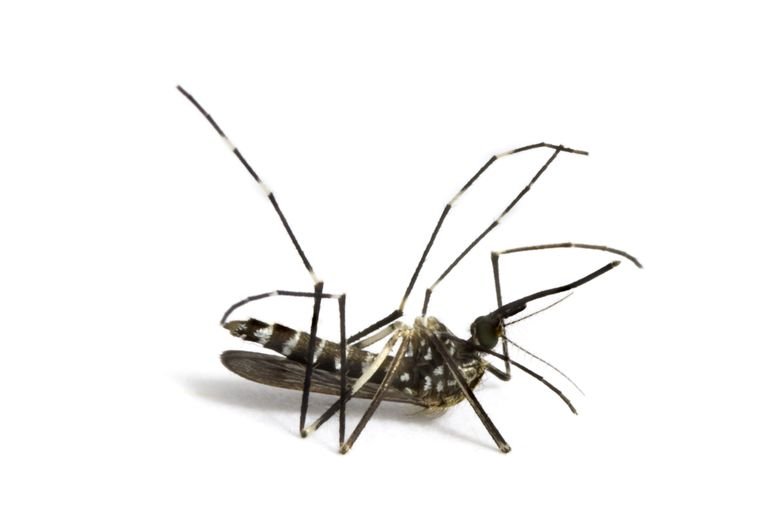mosquito: (165, 76, 647, 479)
